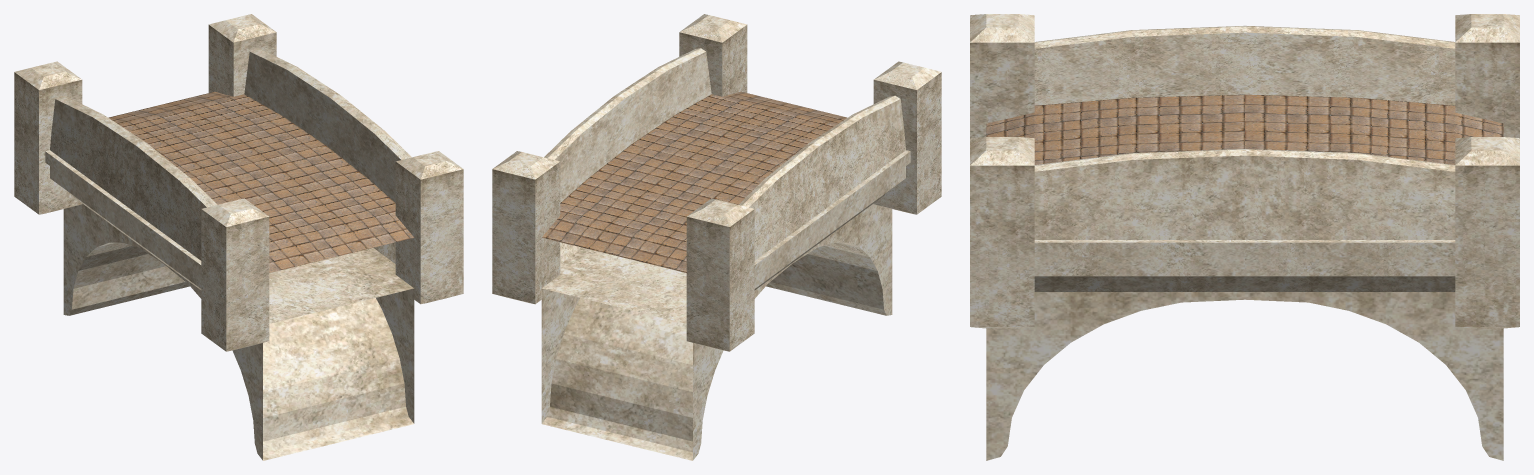
File: thm_tato_imprv_bridge_sml_s01_l0.fbx
3 views of the same model, side by side, from view 1: azimuth 30°, elevation 25°; view 2: azimuth 150°, elevation 25°; view 3: azimuth 270°, elevation 25° (orthographic). The views are drawn at different scales.
Parts seen in each view (by area): view 1: mesh_node; view 2: mesh_node; view 3: mesh_node.
Boxes of the visible parts, x1,y1,x2,y2 form: mesh_node: (14, 14, 463, 460); mesh_node: (492, 14, 941, 460); mesh_node: (970, 14, 1519, 460).
Bounding box in the file's own units: 5.5 × 5.64 × 8.5.
